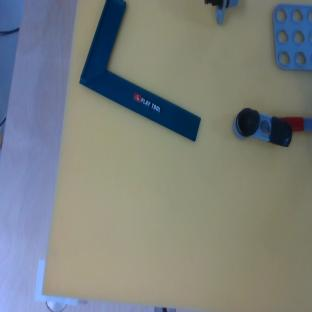pass: (204, 0, 238, 24)
